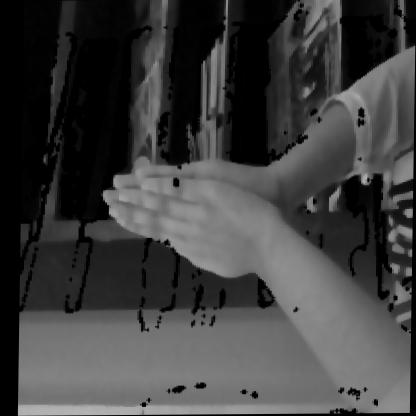namaste: (88, 86, 329, 346)
